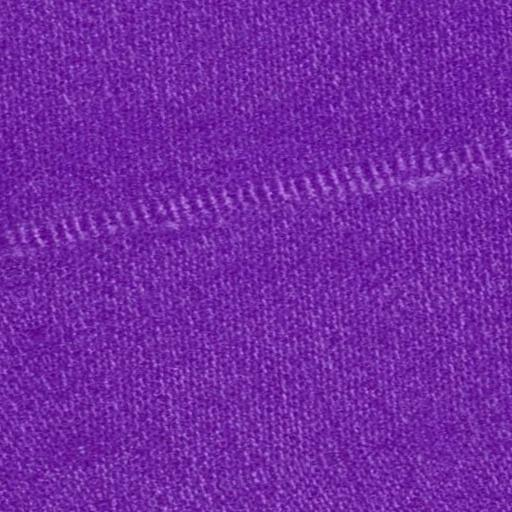slub: (0, 134, 512, 260)
